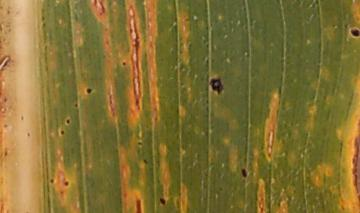tarspot: (208, 77, 224, 96), (349, 26, 360, 39), (240, 167, 248, 179), (157, 196, 166, 206), (84, 87, 94, 95), (64, 116, 72, 126), (62, 179, 70, 187), (59, 128, 66, 137), (120, 60, 128, 67), (73, 101, 80, 109), (48, 177, 55, 185), (141, 158, 149, 165), (136, 141, 143, 147)
